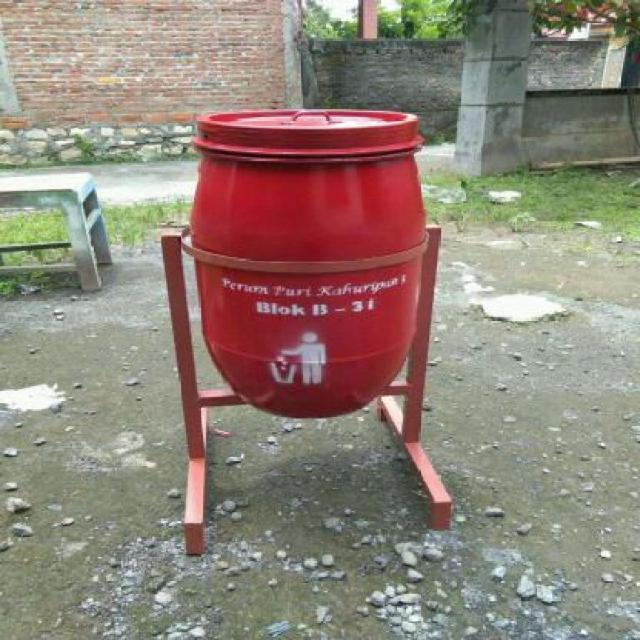garbage container: (186, 102, 443, 430)
